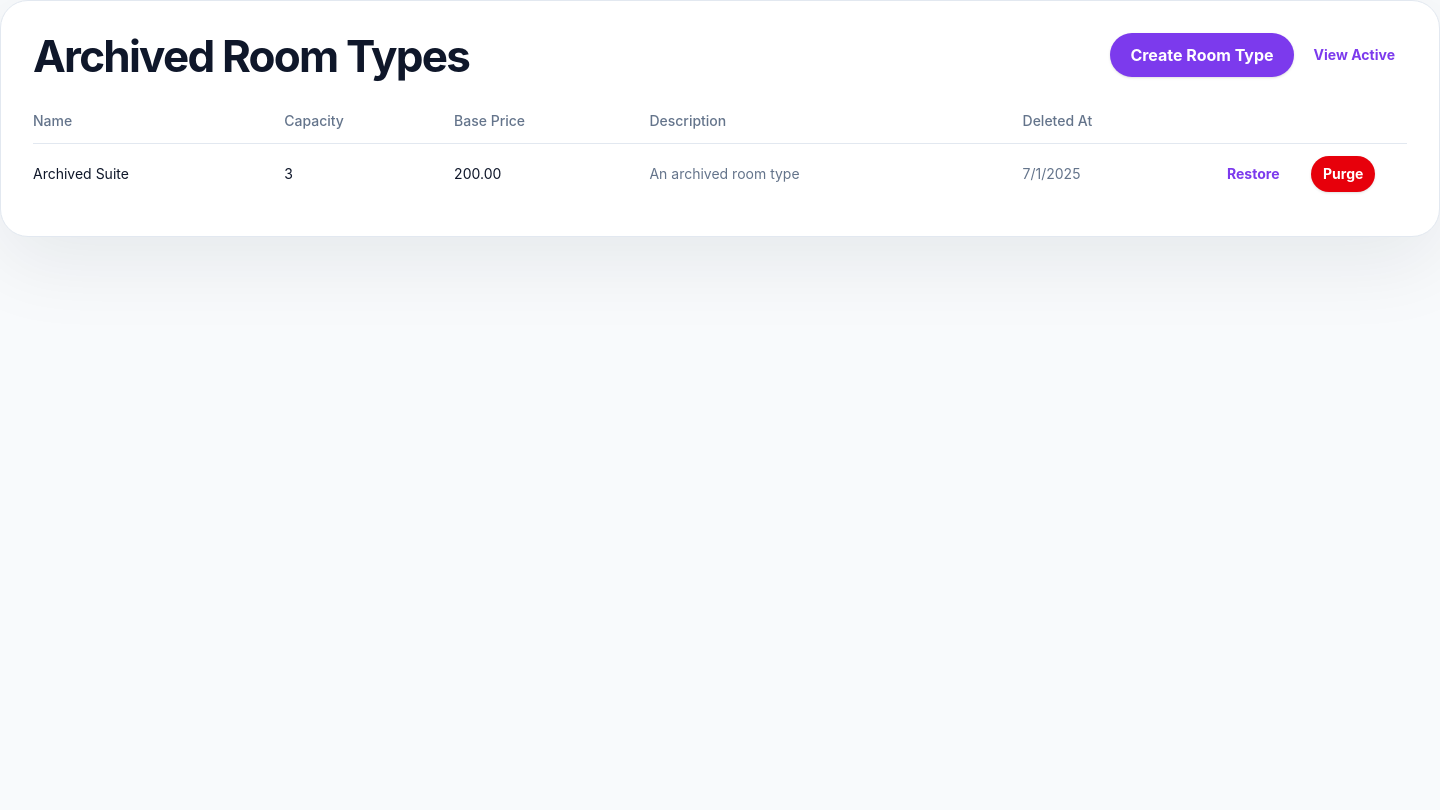
it: RoomTypesPage › restore flow › shows duplicate name error when restore fails
Click the button "Restore" at (1253, 174), box [1215, 156, 1292, 192]
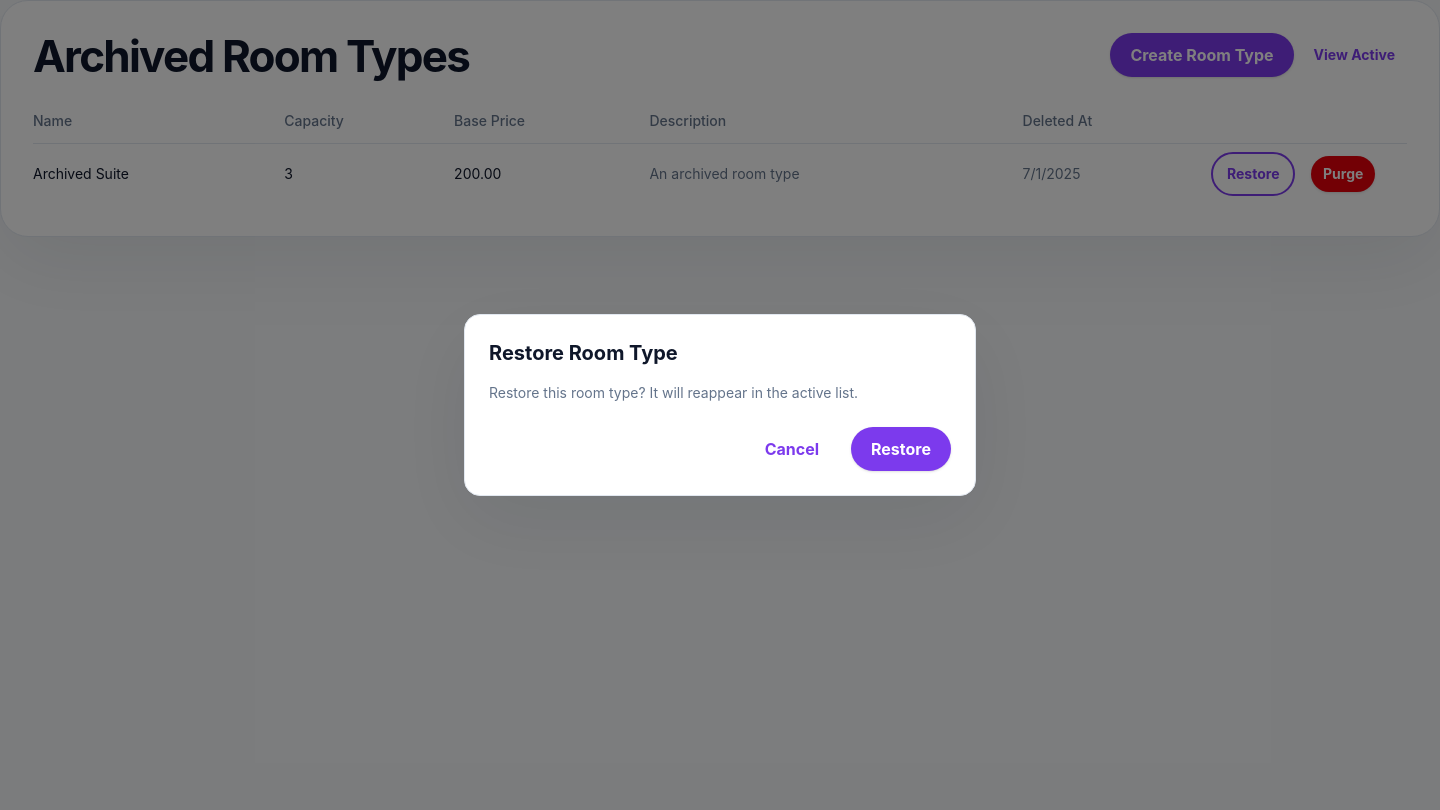
Click the button "Restore" at (901, 449), box [851, 427, 951, 471]
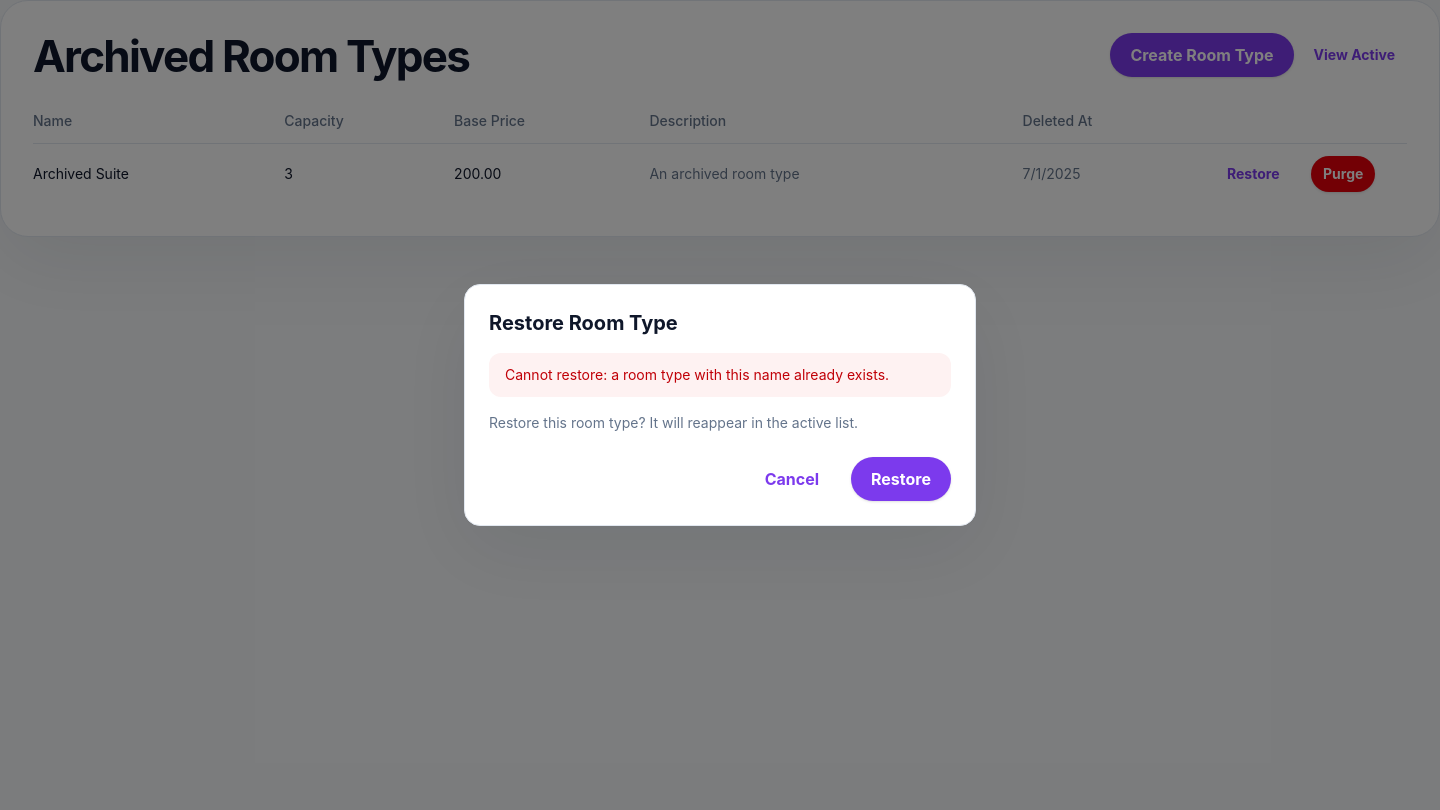
Check: the dialog is shown, box [464, 284, 976, 526]
Check: the message "Cannot restore: a room type with this name already exists." is shown, box [489, 353, 951, 397]
